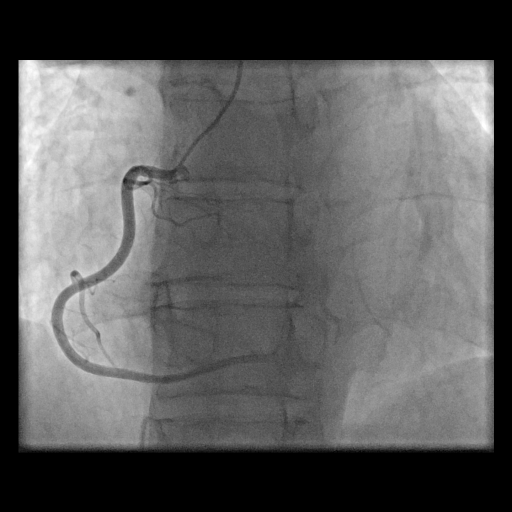RCA: (51, 166, 272, 383)
catherter: (172, 61, 243, 173)
